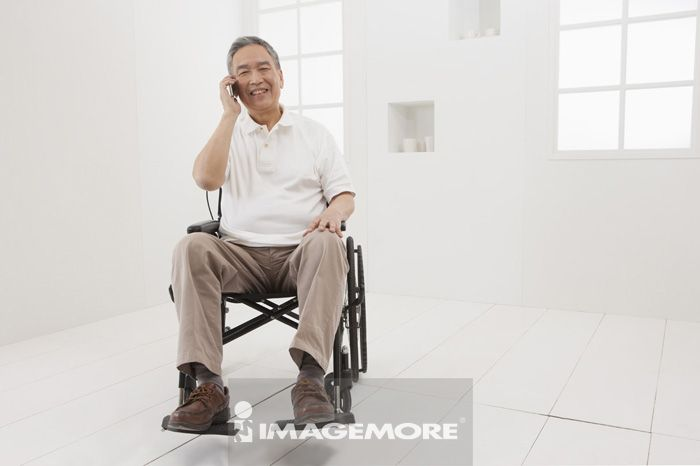talk: (217, 59, 282, 115)
